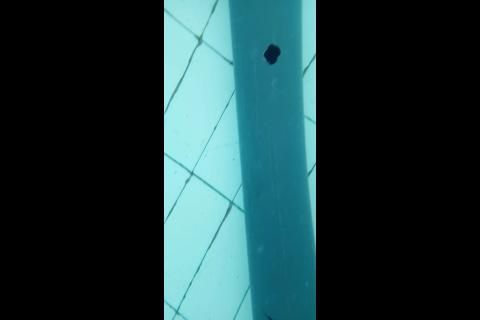kebocoran: (262, 43, 282, 65)
keretakan: (261, 308, 272, 319)
